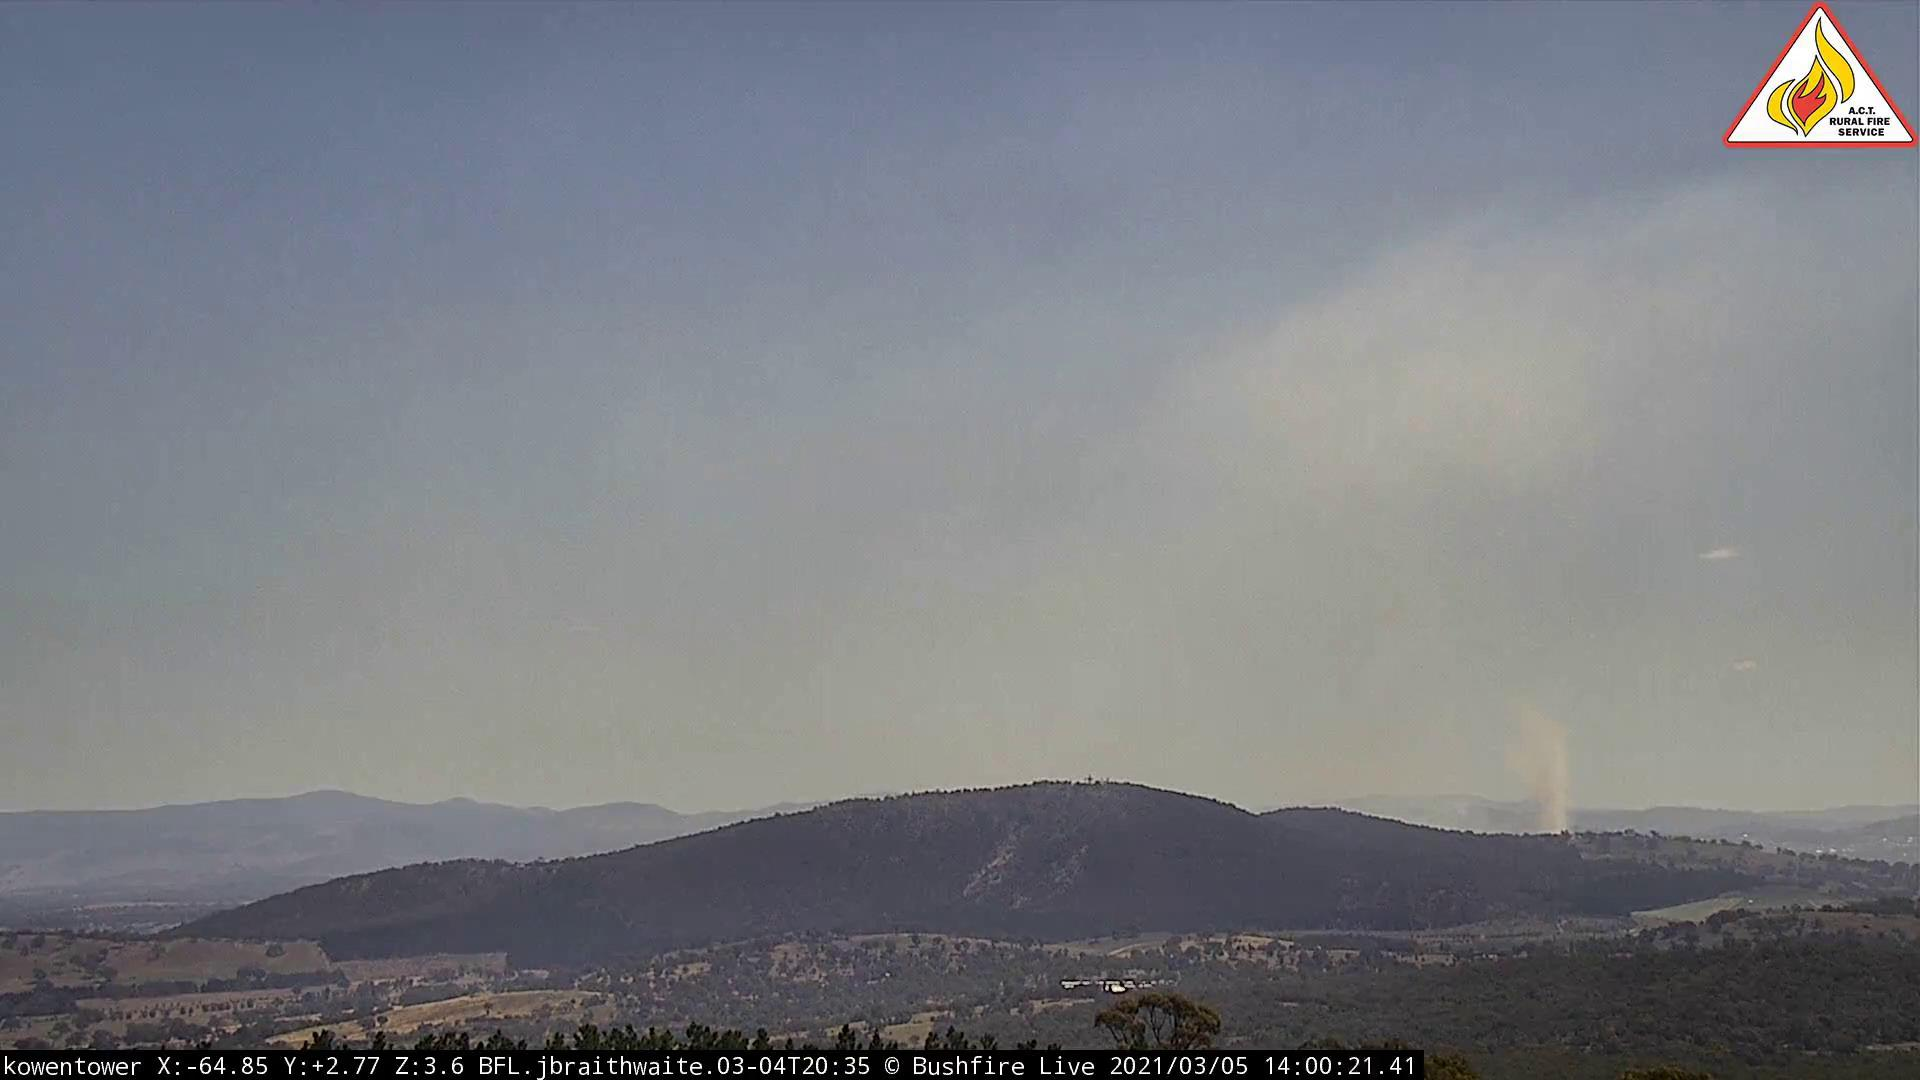Smoke: (1464, 676, 1611, 841)
